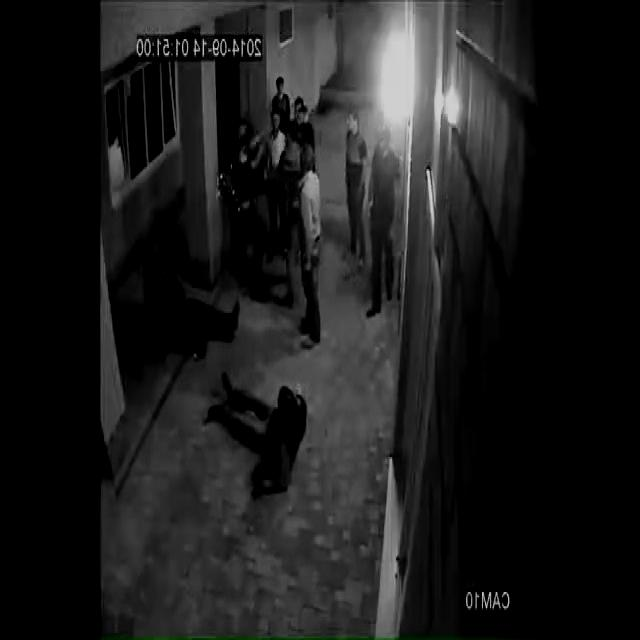fight: (235, 110, 286, 300)
